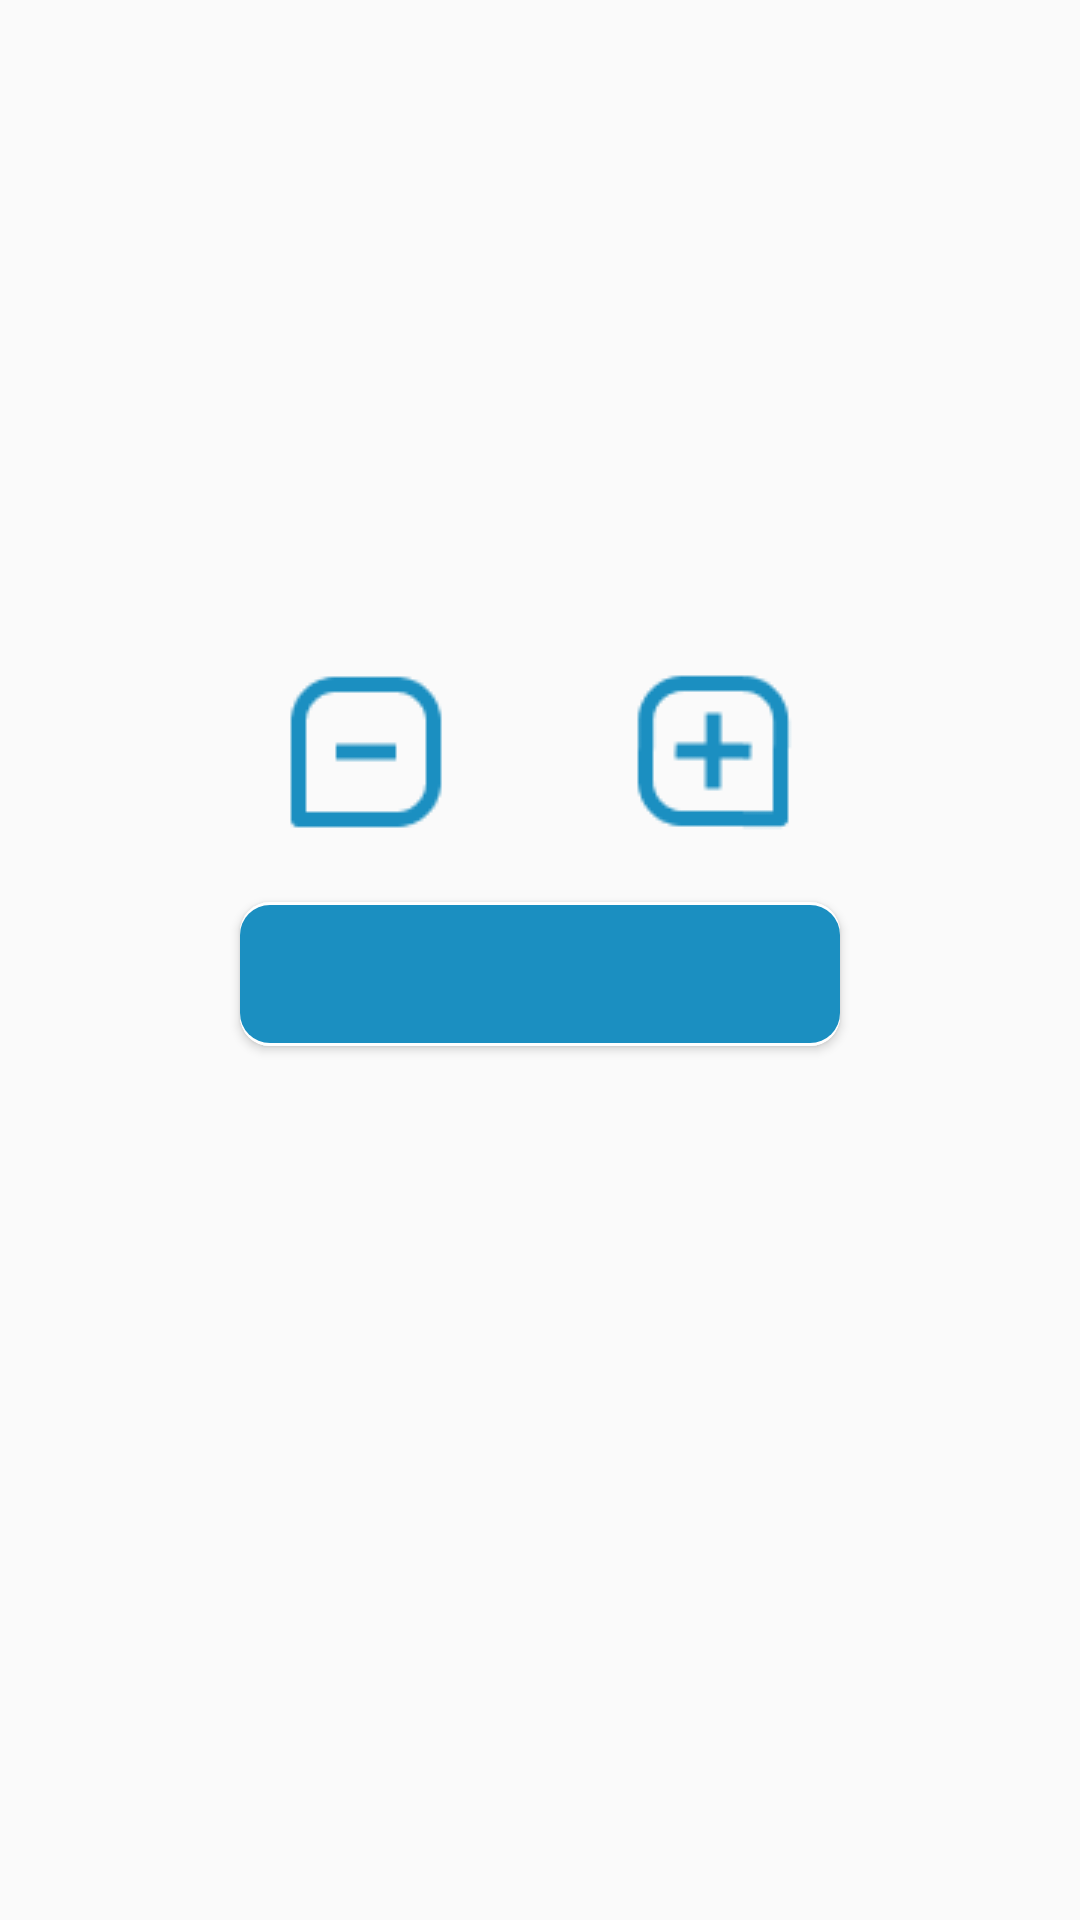

Point at icon controls on the screen. Image size 1080 × 1920, points as (x=x, y=y).
mas: (x=713, y=751)
menos: (x=366, y=752)
